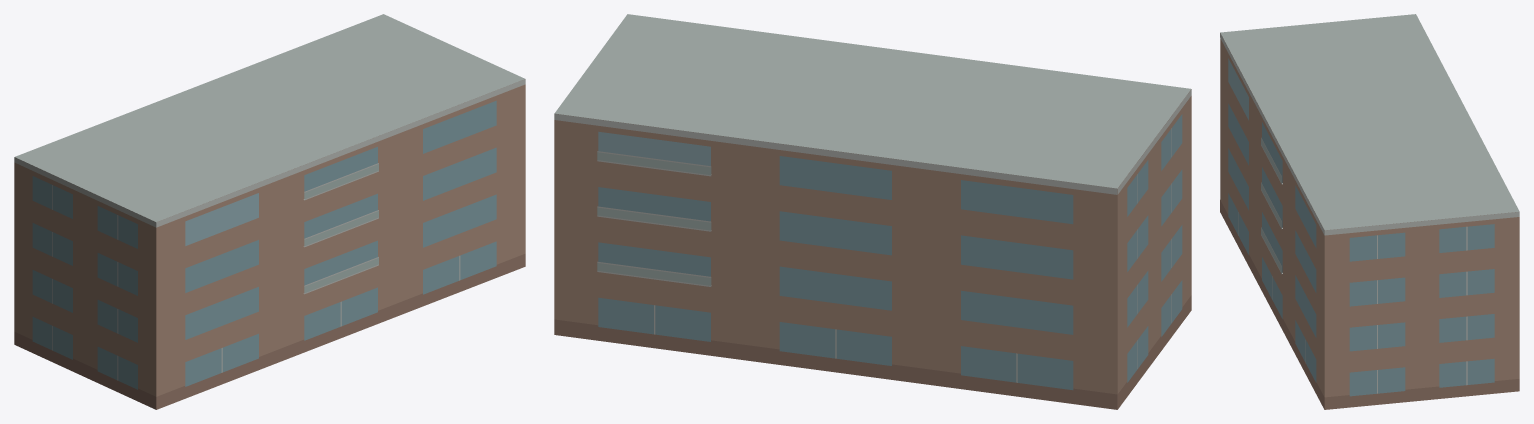
The model's file is survey-upis-32696838.glb.
3 views of the same model, side by side, from view 1: azimuth 30°, elevation 25°; view 2: azimuth 150°, elevation 25°; view 3: azimuth 270°, elevation 25° (orthographic). The views are drawn at different scales.
Parts seen in each view (by area): view 1: survey-upis-32696838.tmp; view 2: survey-upis-32696838.tmp; view 3: survey-upis-32696838.tmp.
Boxes of the visible parts, <box> form: survey-upis-32696838.tmp: <box>14,14,525,409</box>; survey-upis-32696838.tmp: <box>554,14,1191,409</box>; survey-upis-32696838.tmp: <box>1220,14,1519,409</box>.
Size of the model in its own units: 21.71 by 8.4 by 12.71.
